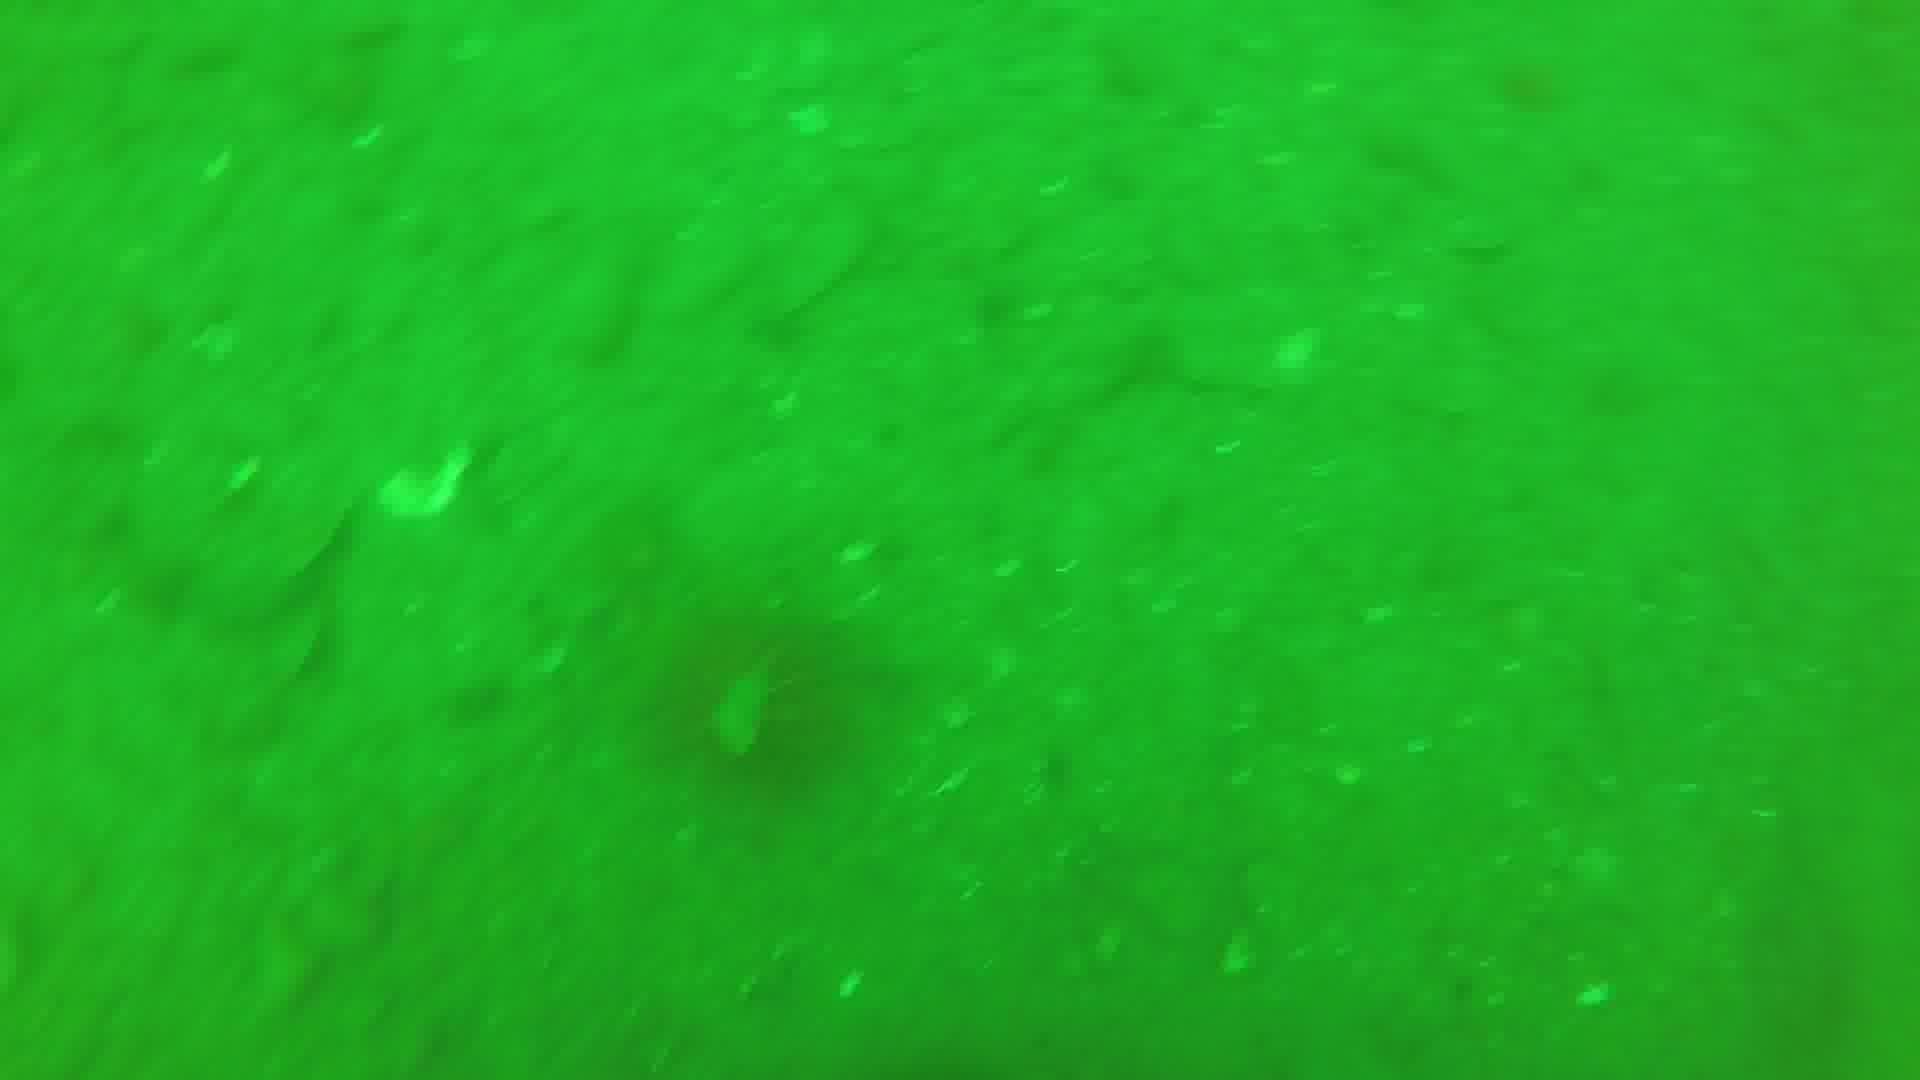echinus: (638, 588, 877, 798)
scallop: (381, 451, 484, 522)
